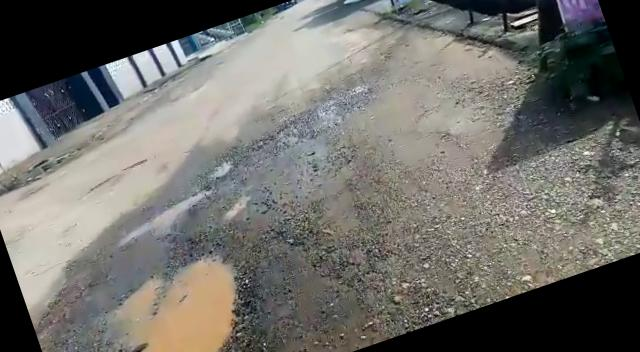pothole: (98, 247, 261, 352)
